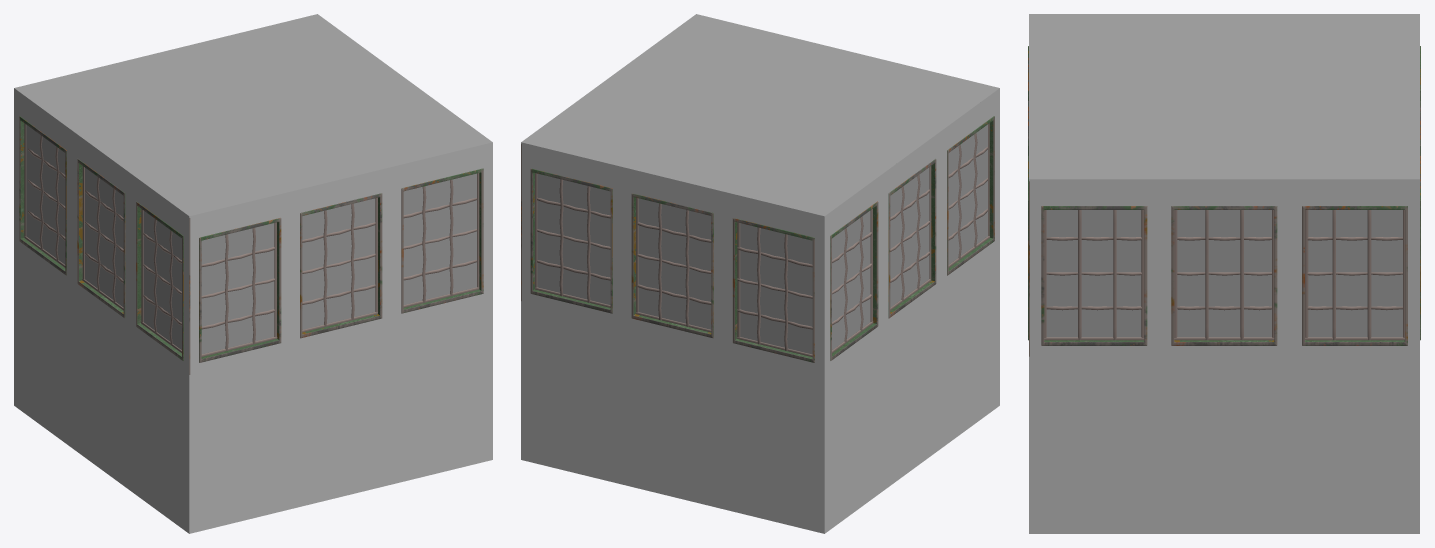
Rendered from SM_SlumHouseWindows_01.fbx.
3 renders of one model, left to right at view 1: azimuth 30°, elevation 25°; view 2: azimuth 150°, elevation 25°; view 3: azimuth 270°, elevation 25°, orthographic. The views are drawn at different scales.
Parts seen in each view (by area): view 1: SlumHouse; view 2: SlumHouse; view 3: SlumHouse.
Part boxes in pixels (<box>): SlumHouse: <box>14,14,492,533</box>; SlumHouse: <box>521,14,999,533</box>; SlumHouse: <box>1028,14,1420,533</box>.
Bounding box in the file's own units: 502 × 500 × 502.
